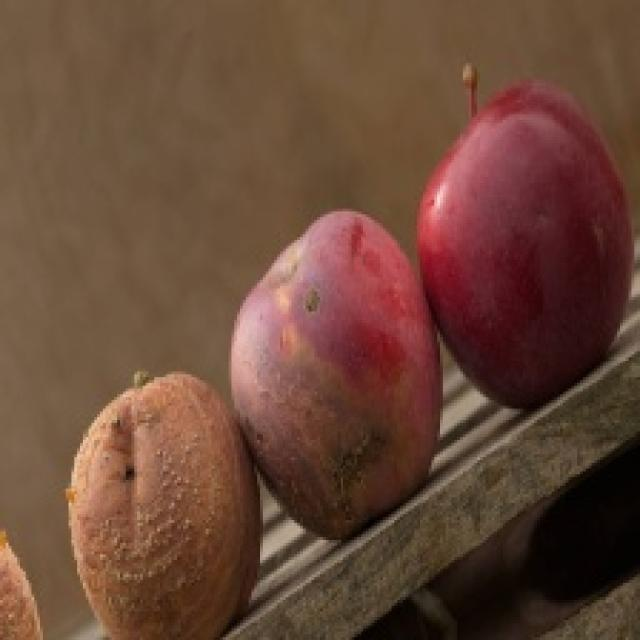rotten_apple: (233, 214, 438, 538), (72, 375, 255, 636)
